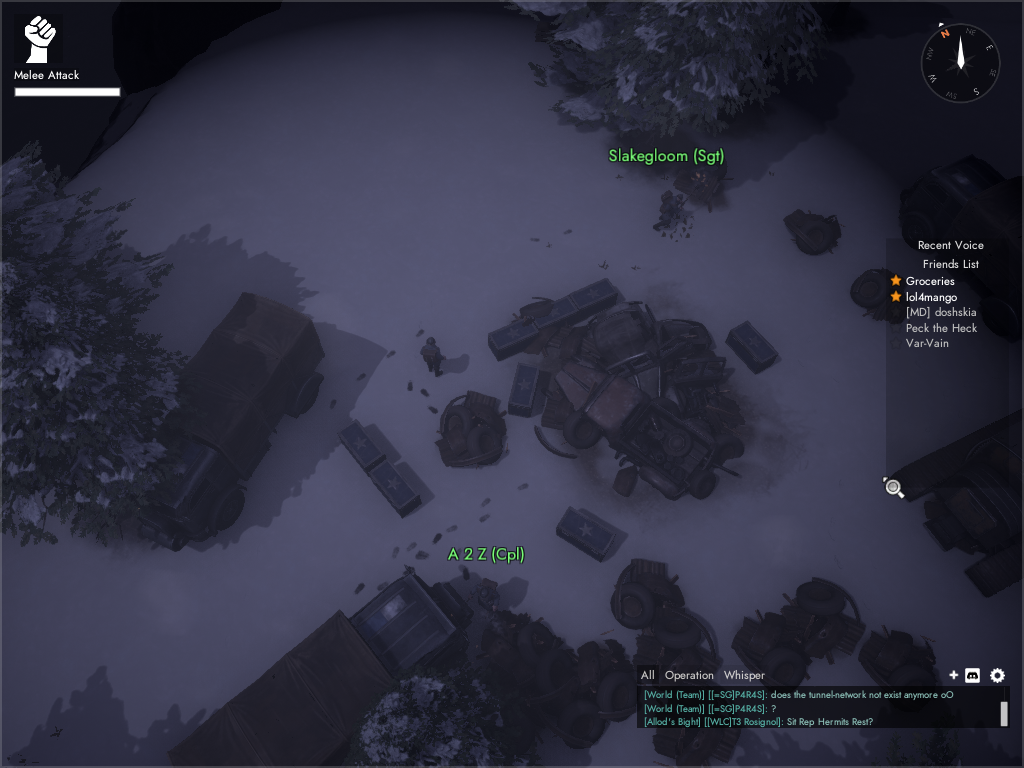crane: (890, 407, 1024, 599)
player: (653, 172, 708, 232), (467, 577, 500, 611), (420, 338, 446, 378)
scrap: (551, 637, 635, 748), (769, 573, 867, 666), (653, 679, 742, 768), (733, 610, 814, 690), (478, 610, 555, 693), (435, 387, 509, 472), (607, 557, 686, 632), (861, 614, 942, 687), (777, 203, 847, 263), (849, 267, 913, 324)
scrapyard: (532, 299, 747, 503)
storage_box: (551, 503, 617, 564), (723, 318, 784, 378), (366, 458, 423, 520), (336, 418, 386, 474), (525, 293, 580, 342), (484, 314, 541, 360), (566, 276, 621, 323), (504, 363, 545, 419)
truck: (167, 564, 475, 768), (122, 292, 324, 552), (899, 157, 1024, 292)
